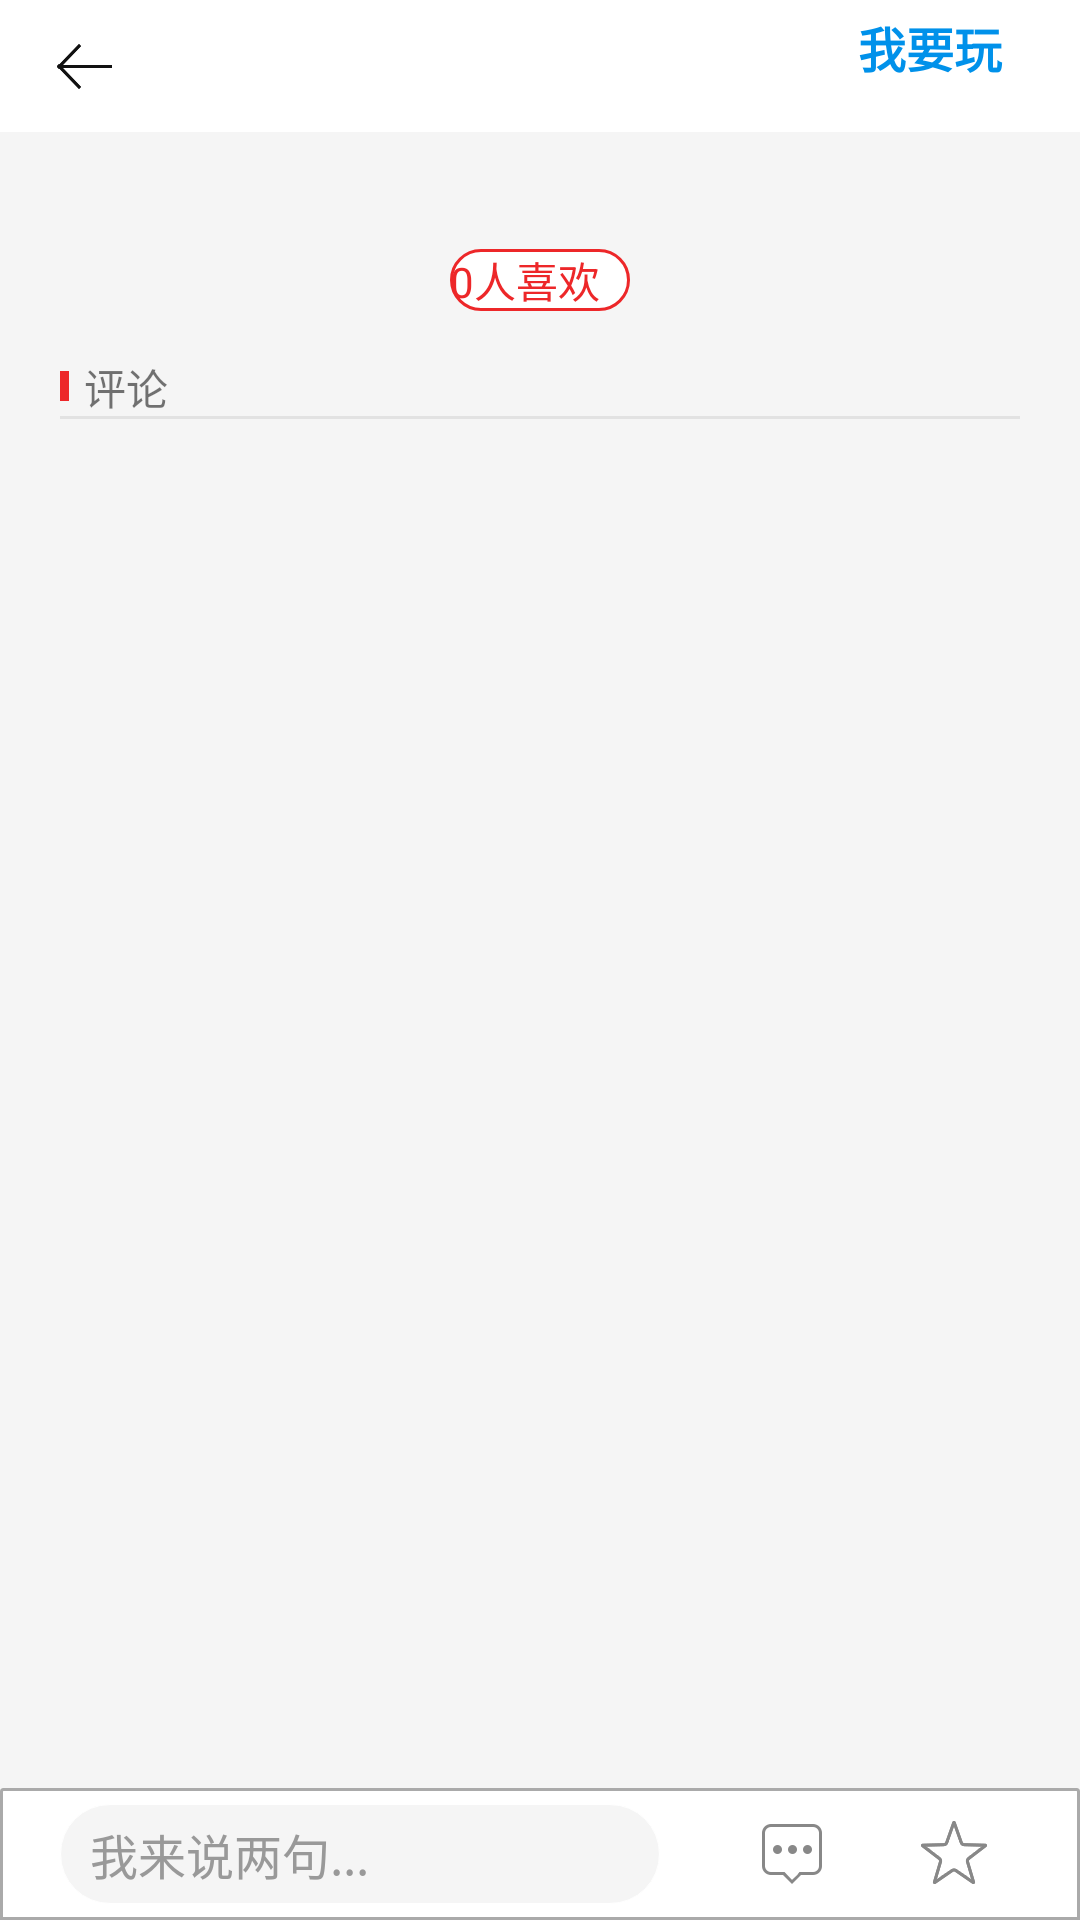

Screen size 1080px x 1920px. Icon name, then its center in pixels as (x=x, y=y):
collect border: (x=954, y=1852)
